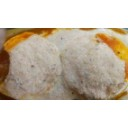idly: (65, 37, 128, 97), (5, 34, 63, 97)
